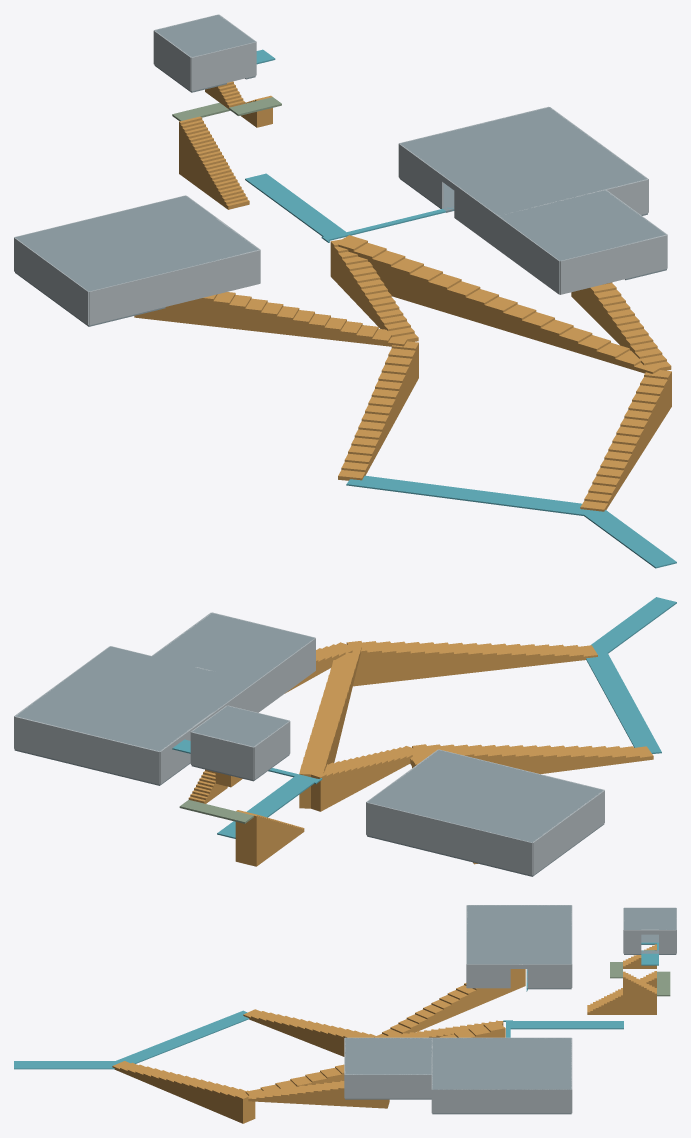
File: furnished.glb
3 renders of one model, top to bottom at view 1: azimuth 30°, elevation 25°; view 2: azimuth 150°, elevation 25°; view 3: azimuth 270°, elevation 25°, orthographic. The views are drawn at different scales.
Visible parts, largest first — view 1: Ceiling cap ruin, Ceiling cap hut, Ceiling cap store, Wall hut S, Wall store S, L02 support 0, Wall hut W, Ceiling cap cab, Wall cab S, Wall store W, Wall ruin W, Wall ruin W.001 (+8 smaller); view 2: Ceiling cap ruin, Ceiling cap hut, Ceiling cap store, Wall hut N, Wall ruin N, Wall hut W, L02 support 0, Ceiling cap cab, Wall cab N, Wall store W, Wall cab W, L13 flight0 step25 (+17 smaller); view 3: Ceiling cap ruin, Ceiling cap hut, Wall ruin E, Ceiling cap store, Wall store E, L02 support 0, Ceiling cap cab, Wall hut E, Wall hut E.001, L12 support 0, L10 flight0 step17, L01 support 0 (+5 smaller).
Part boxes in pixels (x1,y1,x2,y2): Ceiling cap ruin: (400, 107, 646, 215); Ceiling cap hut: (15, 196, 258, 291); Ceiling cap store: (499, 190, 665, 260); Wall hut S: (89, 249, 260, 325); Wall store S: (560, 234, 667, 294); L02 support 0: (346, 475, 591, 515); Wall hut W: (14, 237, 88, 325); Ceiling cap cab: (155, 15, 255, 57); Wall cab S: (191, 42, 256, 91); Wall store W: (497, 216, 559, 294); Wall ruin W: (398, 143, 443, 208); Wall ruin W.001: (454, 184, 498, 249); Ceiling cap ruin: (16, 646, 254, 751); Ceiling cap hut: (367, 750, 603, 842); Ceiling cap store: (152, 613, 314, 681); Wall hut N: (366, 802, 532, 875); Wall ruin N: (14, 716, 159, 784); Wall hut W: (532, 790, 604, 875); L02 support 0: (586, 652, 661, 753); Ceiling cap cab: (192, 706, 288, 746); Wall cab N: (191, 732, 253, 779); Wall store W: (255, 638, 315, 712); Wall cab W: (253, 721, 290, 779); L13 flight0 step25: (235, 810, 258, 866); Ceiling cap ruin: (432, 1038, 571, 1089); Ceiling cap hut: (467, 905, 571, 964); Wall ruin E: (432, 1089, 571, 1113); Ceiling cap store: (345, 1038, 432, 1074); Wall store E: (345, 1074, 431, 1098); L02 support 0: (116, 1010, 249, 1063); Ceiling cap cab: (624, 908, 676, 929); Wall hut E: (528, 964, 571, 988); Wall hut E.001: (467, 964, 510, 988); L12 support 0: (506, 1021, 571, 1029); L10 flight0 step17: (235, 1090, 255, 1123); L01 support 0: (14, 1061, 66, 1069).
Bounding box in the file's own units: 50.16 × 18.16 × 76.08.
